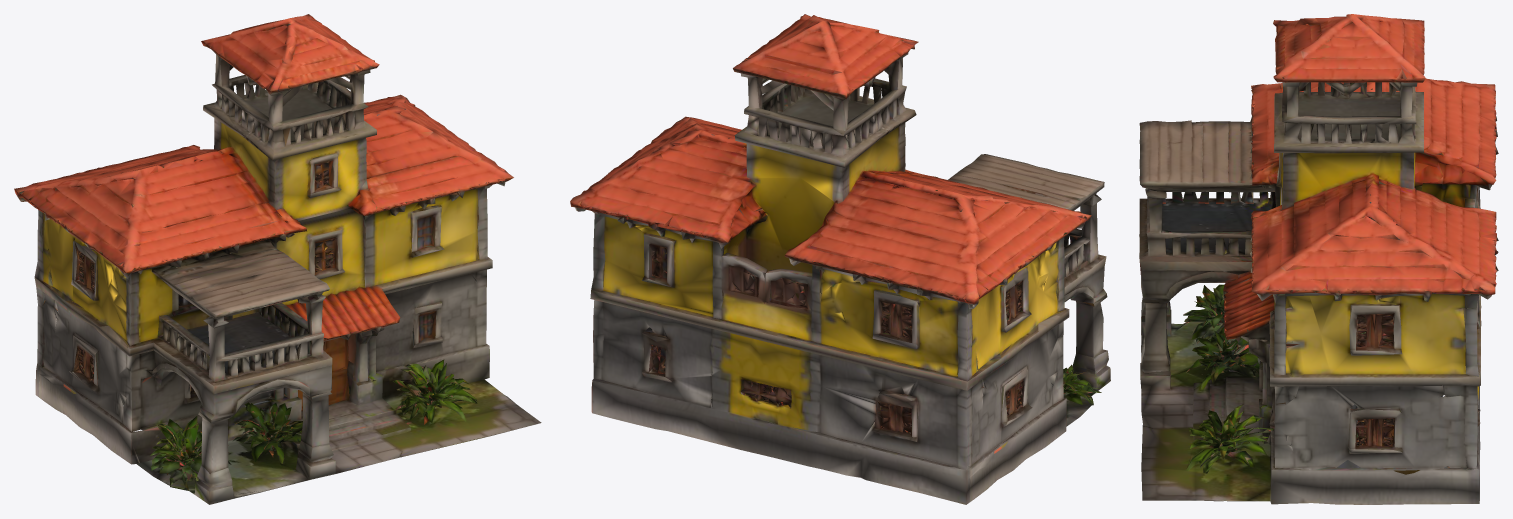
File: Mediterranean_Villa.glb
The picture shows the model from 3 angles, left to right: view 1: azimuth 30°, elevation 25°; view 2: azimuth 150°, elevation 25°; view 3: azimuth 270°, elevation 25°; orthographic projection. The views are drawn at different scales.
Visible parts, largest first — view 1: Mediterranean_Villa; view 2: Mediterranean_Villa; view 3: Mediterranean_Villa.
Part boxes in pixels (bbox=[...]): Mediterranean_Villa: bbox=[14, 14, 541, 504]; Mediterranean_Villa: bbox=[570, 14, 1110, 504]; Mediterranean_Villa: bbox=[1139, 14, 1498, 504].
Size of the model in its own units: 1.9 by 1.74 by 1.4.
Materials: 1 (1 with a texture image).
